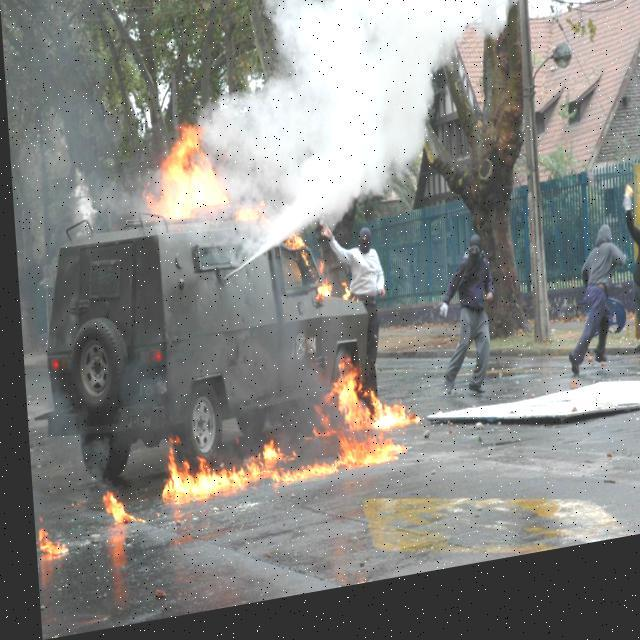Fire: (151, 360, 419, 507), (144, 114, 268, 246), (94, 486, 138, 534), (32, 522, 57, 560)
